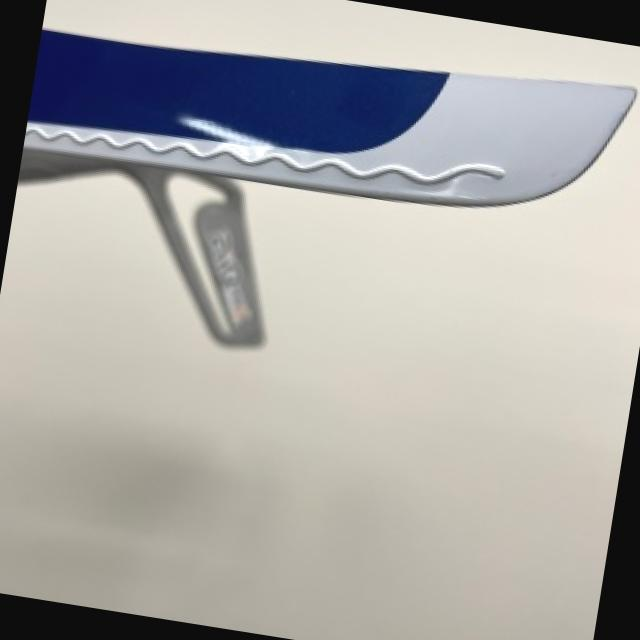healthy: (18, 28, 635, 342)
